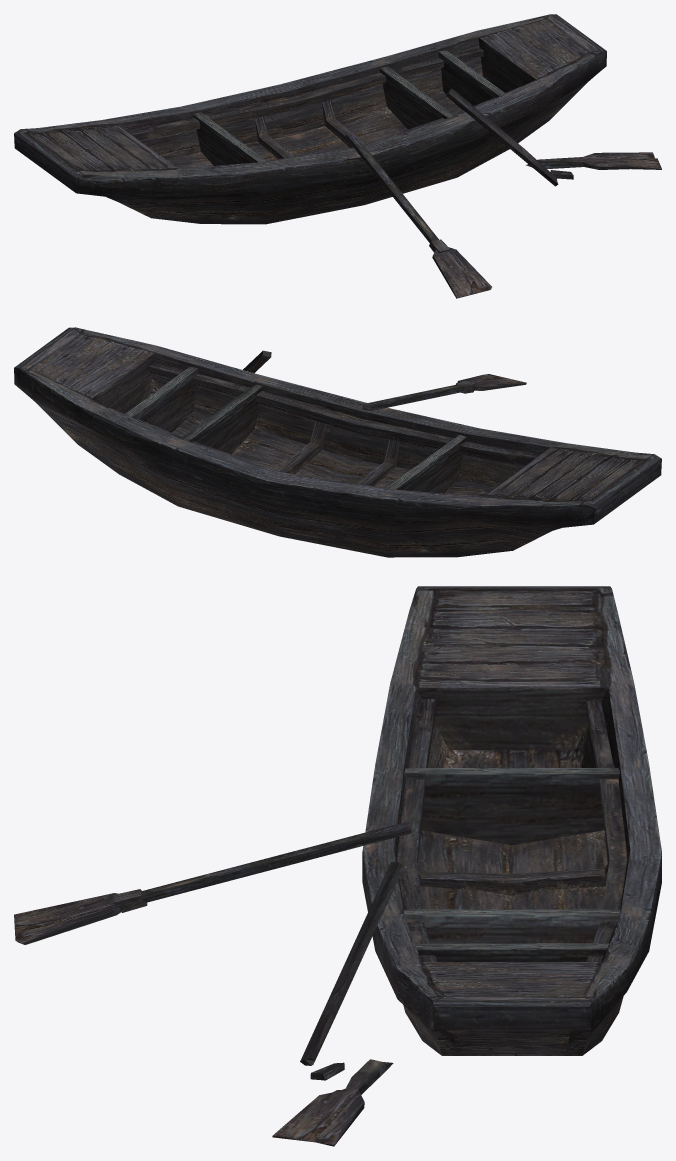
The model's file is chuan.FBX.
3 views of the same model, one above another, from view 1: azimuth 30°, elevation 25°; view 2: azimuth 150°, elevation 25°; view 3: azimuth 270°, elevation 25° (orthographic). The views are drawn at different scales.
Parts seen in each view (by area): view 1: lshd_thing_misc014; view 2: lshd_thing_misc014; view 3: lshd_thing_misc014.
Boxes of the visible parts, x1=… form: lshd_thing_misc014: x1=14, y1=14, x2=661, y2=298; lshd_thing_misc014: x1=14, y1=327, x2=661, y2=557; lshd_thing_misc014: x1=14, y1=586, x2=661, y2=1146.
Bounding box in the file's own units: 679 × 111 × 443.
